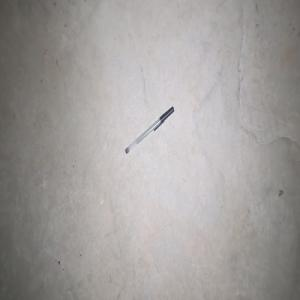Pen: (125, 106, 174, 153)
